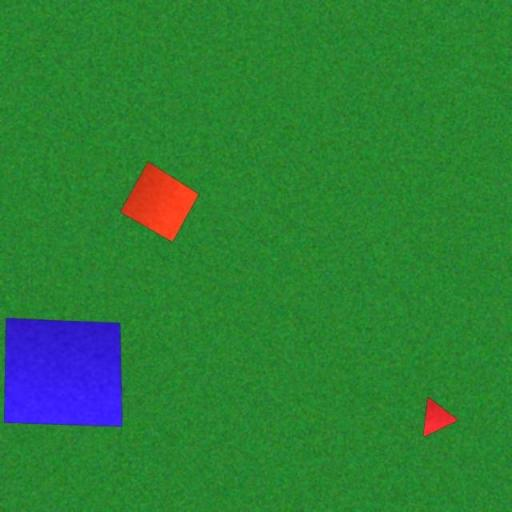BLUE_SQUARE: (3, 318, 123, 427)
RED_SQUARE: (119, 161, 200, 242)
